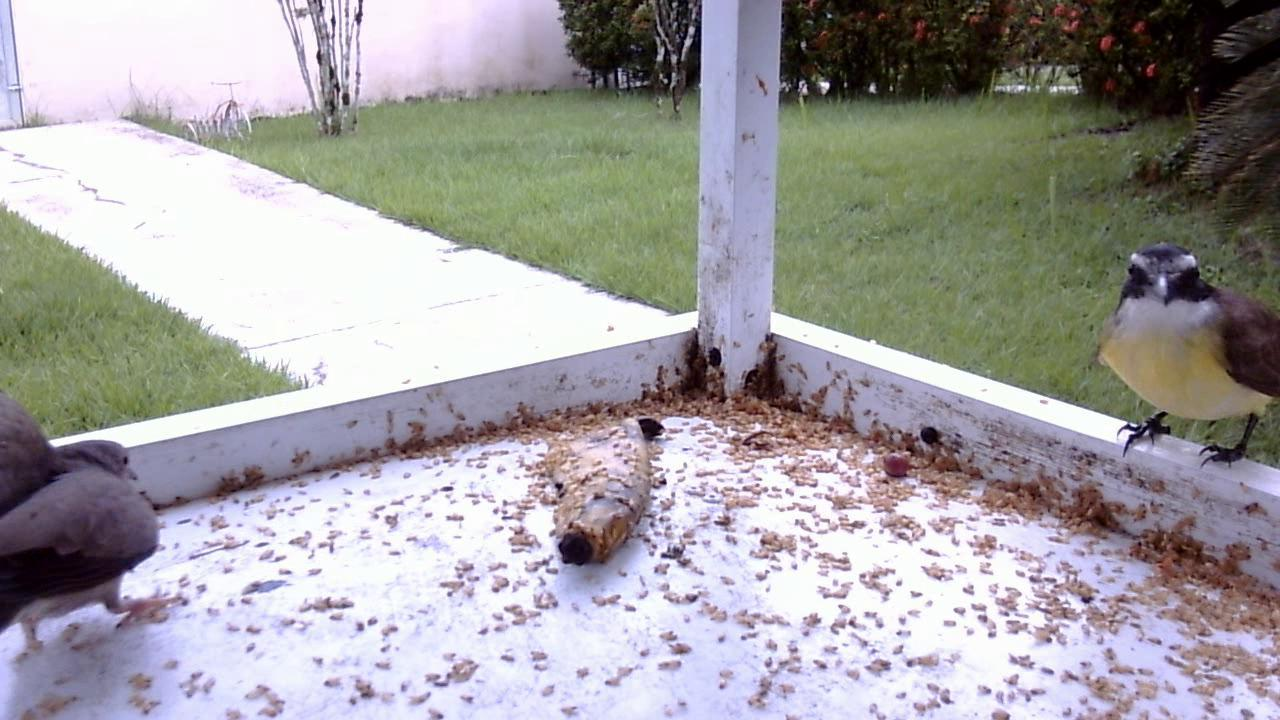bem_te_vi: (1082, 237, 1278, 489)
rolinha: (1, 382, 174, 674)
